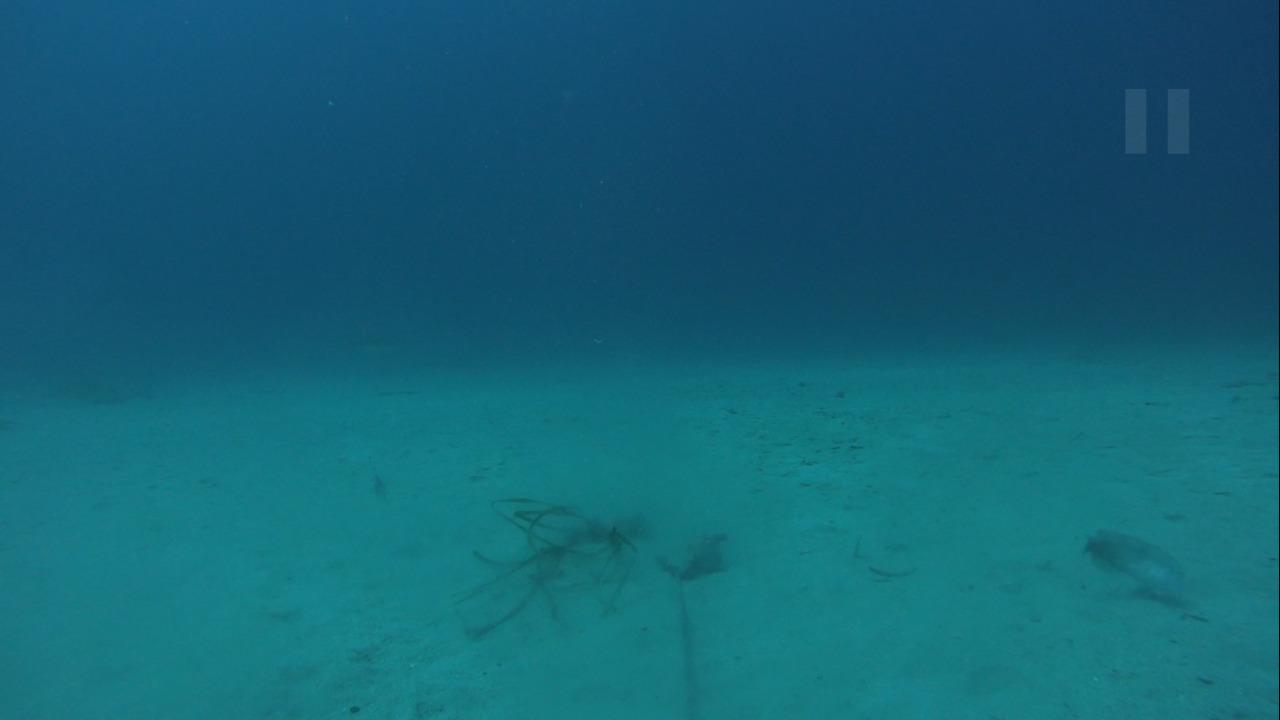raor: (1074, 517, 1192, 604)
